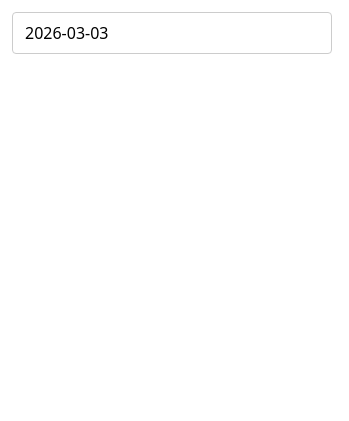
DatePicker › 应该在输入框点击时打开日历
The width and height of the screenshot is (349, 421).
Step 1. Click the field → [172, 33], box [12,12,332,54]
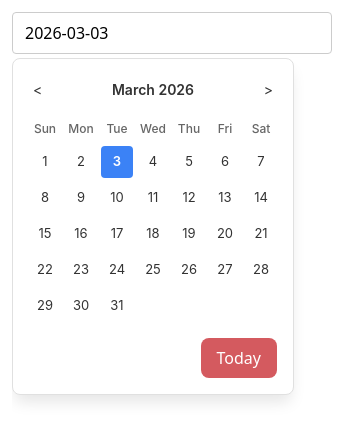
Expected: the text "Sun" is shown, [34,121,56,136]
